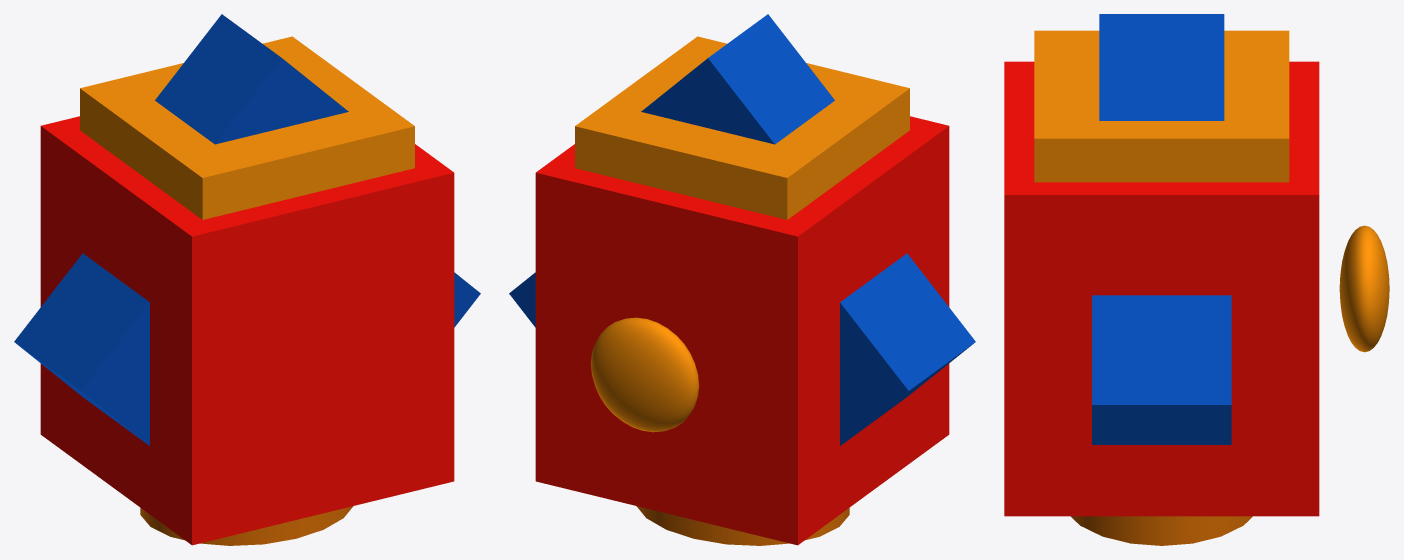
Rendered from Rocket.fbx.
3 renders of one model, left to right at view 1: azimuth 30°, elevation 25°; view 2: azimuth 150°, elevation 25°; view 3: azimuth 270°, elevation 25°, orthographic. The views are drawn at different scales.
Parts seen in each view (by area): view 1: Cube, Cube__1_, Cube__3_, Cube__2_, Cylinder__2_, Cube__4_; view 2: Cube, Cube__1_, Cube__3_, Cube__2_, Sphere, Cylinder__2_, Cube__4_; view 3: Cube, Cube__1_, Cube__4_, Cube__2_, Sphere, Cylinder__2_.
Boxes of the visible parts, box(x1,y1,x2,y2) form: Cube: box(40, 116, 454, 545); Cube__1_: box(80, 36, 414, 219); Cube__3_: box(14, 253, 149, 445); Cube__2_: box(155, 14, 348, 144); Cylinder__2_: box(140, 506, 353, 545); Cube__4_: box(454, 272, 480, 327); Cube: box(535, 116, 949, 545); Cube__1_: box(575, 36, 909, 219); Cube__3_: box(840, 253, 975, 445); Cube__2_: box(641, 14, 834, 144); Sphere: box(590, 317, 699, 432); Cylinder__2_: box(636, 506, 849, 545); Cube__4_: box(509, 272, 535, 327); Cube: box(1004, 61, 1319, 516); Cube__1_: box(1034, 30, 1289, 182); Cube__4_: box(1092, 295, 1231, 444); Cube__2_: box(1099, 14, 1224, 120); Sphere: box(1339, 225, 1389, 352); Cylinder__2_: box(1071, 516, 1252, 545).
Bounding box in the file's own units: 208 × 231 × 167.
